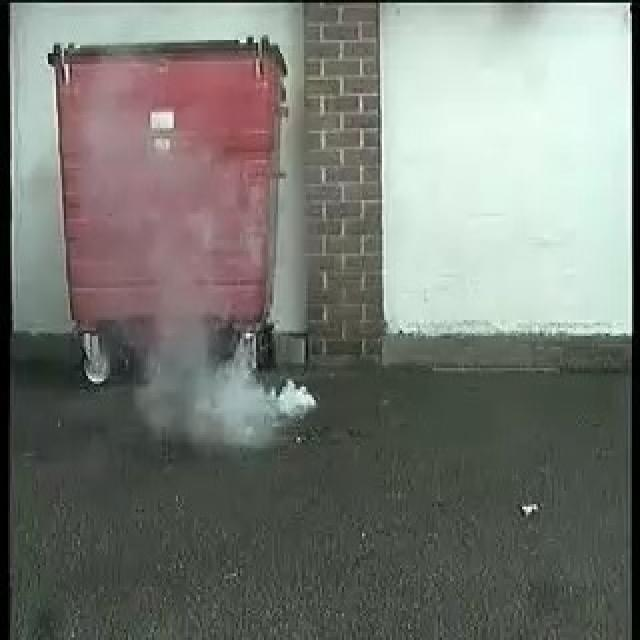smoke: (112, 298, 316, 445)
